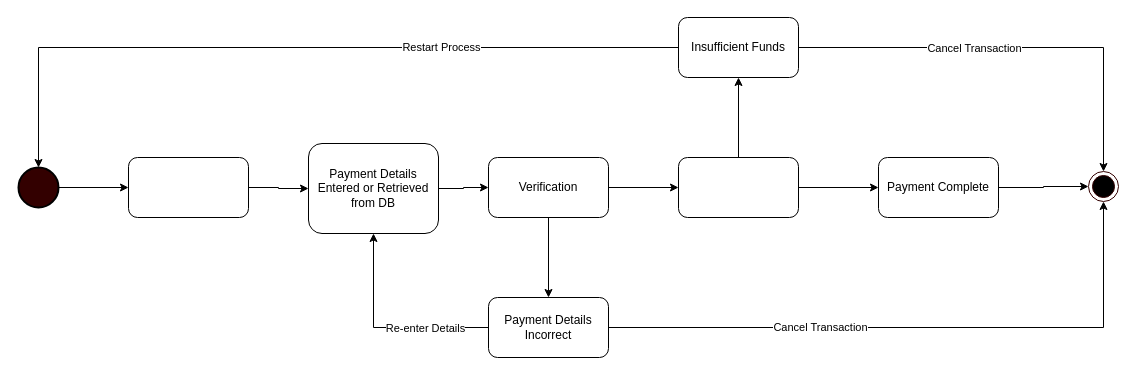
Some shapes in this 1136 by 375 pixel diagram are drawn without their labels. The shapes that lost their labels are listed below. From the top down, each one's centre as x and y in pixels, then its label:
At pixel 188 187: "Payment Initiated".
At pixel 738 187: "Proceesing Payment".
